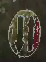Two way: (6, 8, 40, 57)
